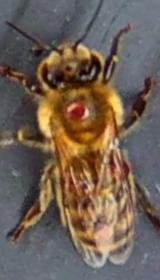varroa_mite: (56, 94, 92, 138), (100, 147, 134, 183)
